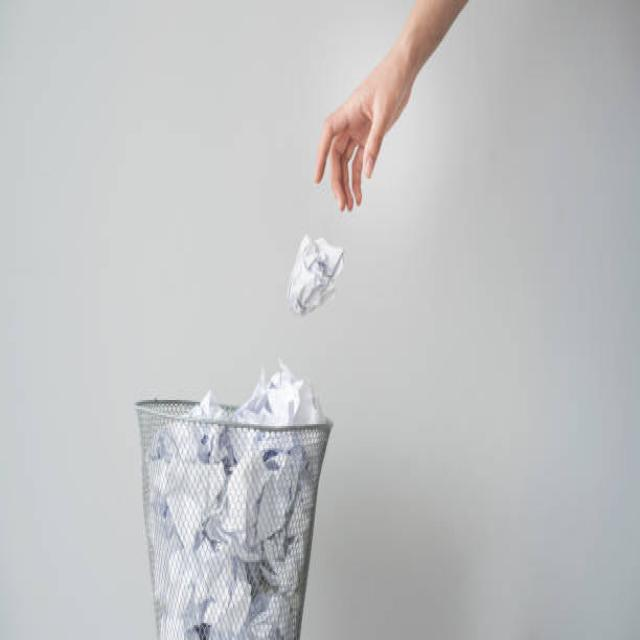paper: (184, 365, 311, 422), (284, 238, 349, 329)
